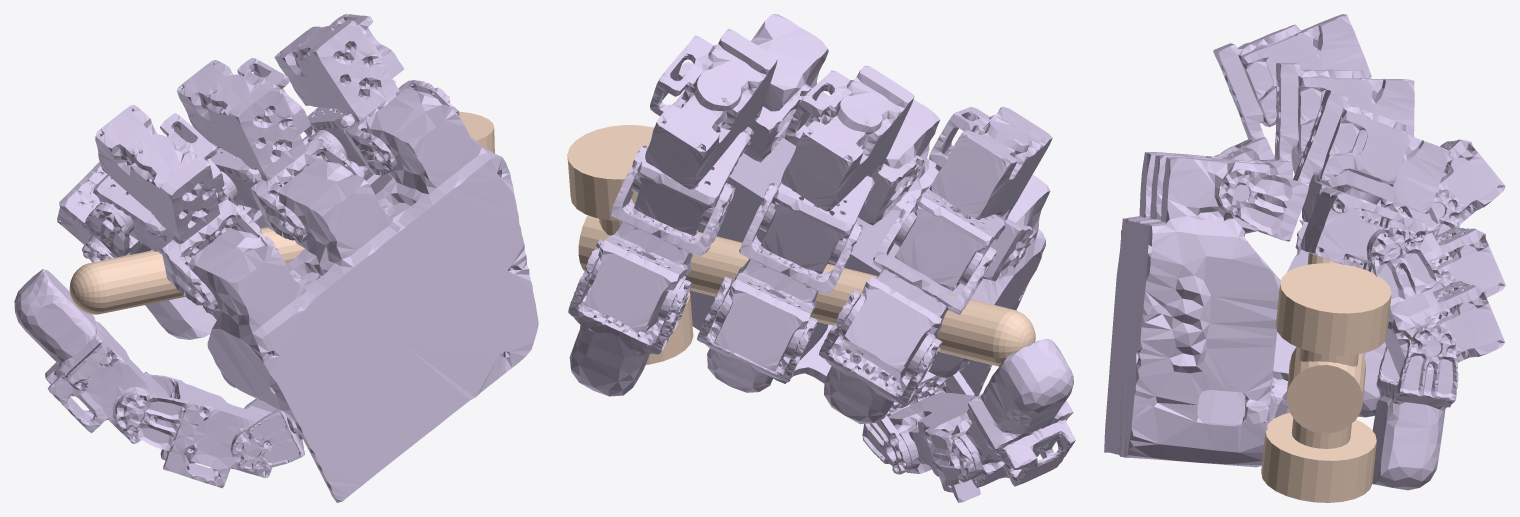
Rendered from d999effaca8af5-closed.glb.
3 renders of one model, left to right at view 1: azimuth 30°, elevation 25°; view 2: azimuth 150°, elevation 25°; view 3: azimuth 270°, elevation 25°, orthographic. The views are drawn at different scales.
Visible parts, largest first — view 1: LEAP_hand, world; view 2: LEAP_hand, world; view 3: LEAP_hand, world.
Part boxes in pixels (x1,y1,x2,y2): LEAP_hand: (14, 14, 538, 502); world: (69, 111, 494, 314); LEAP_hand: (568, 14, 1075, 502); world: (567, 125, 1035, 366); LEAP_hand: (1104, 14, 1505, 490); world: (1261, 253, 1391, 502).
Bounding box in the file's own units: 0.1992 × 0.1643 × 0.1364.
